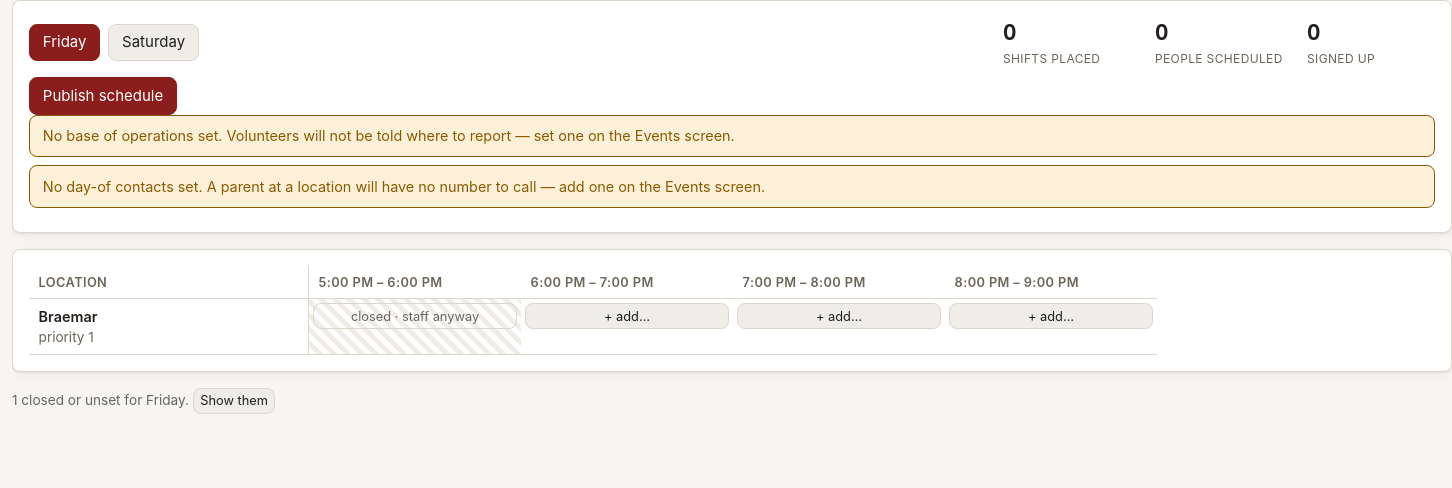
Test case: closed hours › still allows scheduling when hours were never recorded
Click the button "Show them" at (234, 401), box [193,388,275,414]
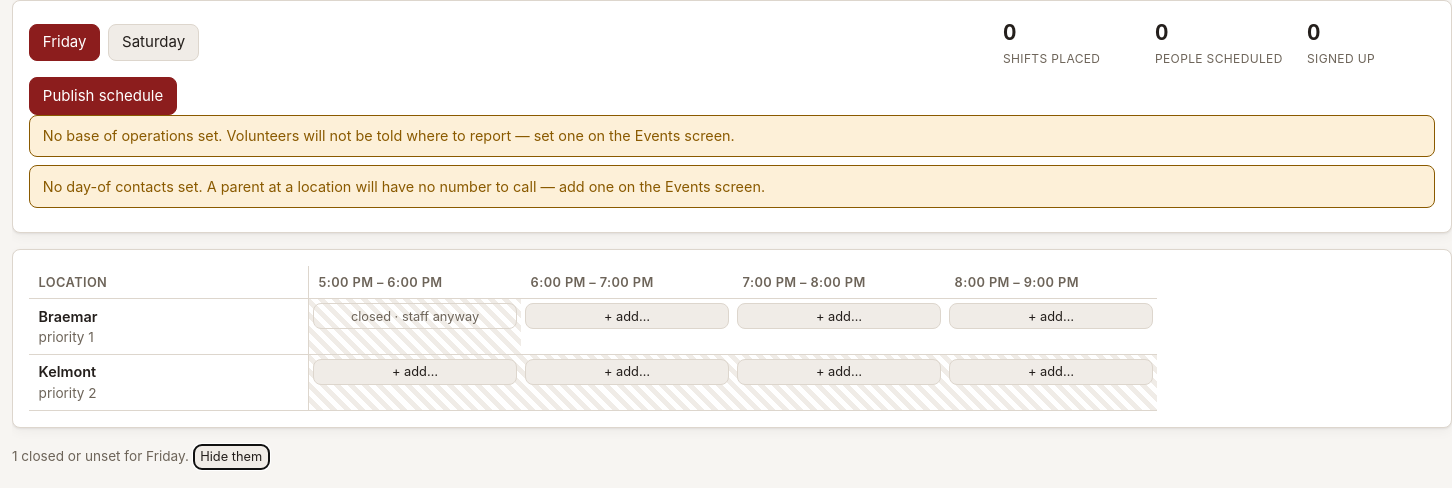
Expected: the 4th button with class "cell-add" is shown, [313,359,517,385]
Expected: the 5th button with class "cell-add" is shown, [525,359,729,385]
Expected: the 6th button with class "cell-add" is shown, [737,359,941,385]
